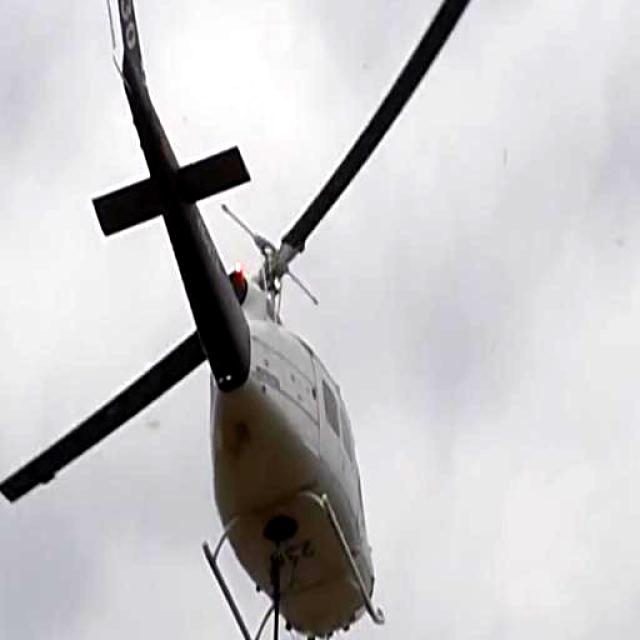drone: (0, 0, 538, 640)
